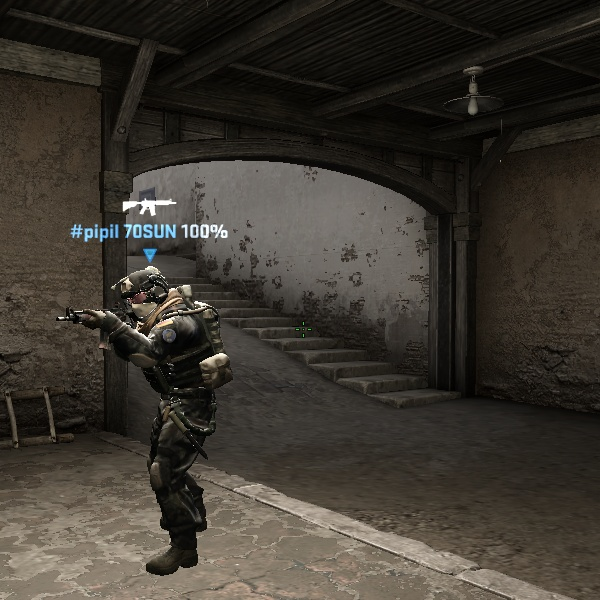ct_body: (100, 256, 247, 580)
ct_head: (112, 263, 177, 326)
